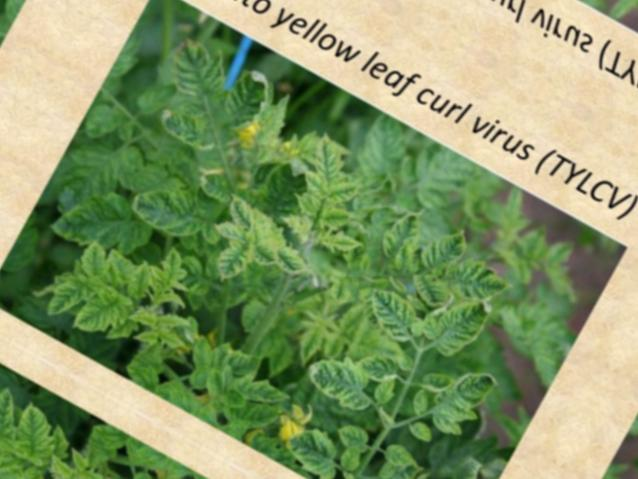Tomato leaf yellow virus: (43, 164, 174, 282), (122, 162, 217, 252), (424, 354, 505, 435), (160, 29, 243, 108), (360, 201, 432, 289), (411, 210, 486, 293), (296, 339, 377, 415), (422, 290, 496, 373), (216, 63, 287, 144), (444, 247, 524, 316), (290, 119, 362, 191), (355, 283, 429, 352), (276, 417, 355, 479), (151, 102, 225, 166), (202, 227, 263, 297), (229, 367, 300, 425), (42, 267, 101, 327), (73, 283, 129, 346), (69, 235, 126, 295), (265, 237, 324, 292), (322, 170, 376, 224), (215, 191, 271, 243), (180, 332, 224, 381), (123, 261, 163, 306), (299, 164, 336, 202), (157, 306, 197, 340)
